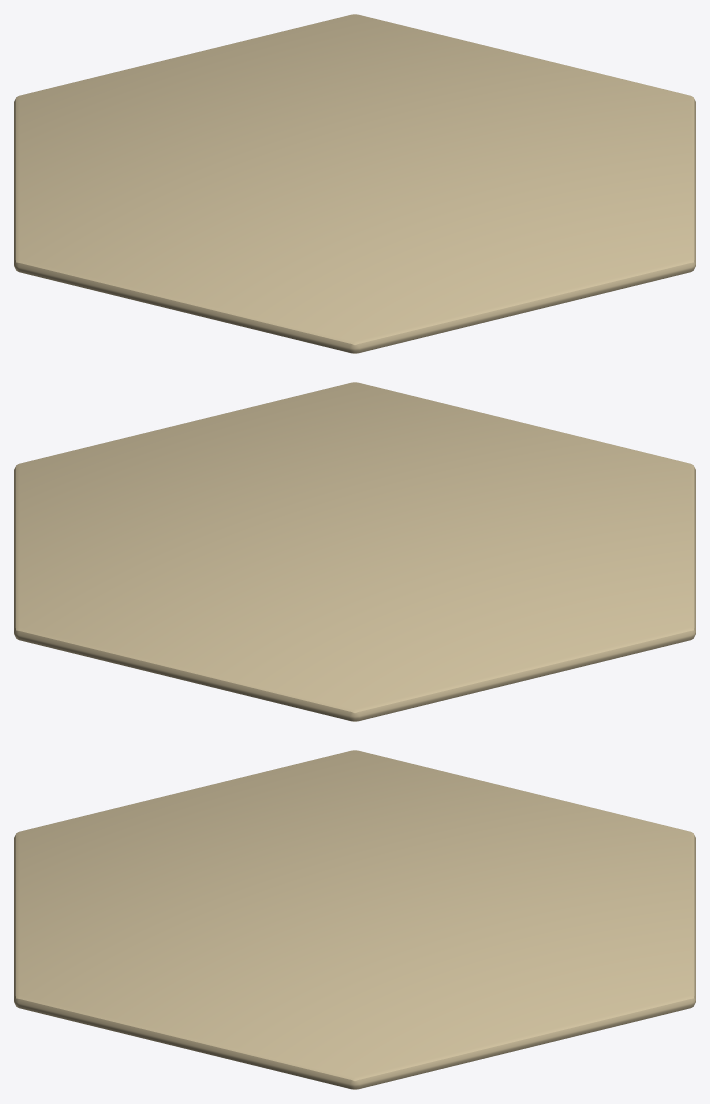
The model's file is HexTile.fbx.
3 renders of one model, top to bottom at view 1: azimuth 30°, elevation 25°; view 2: azimuth 150°, elevation 25°; view 3: azimuth 270°, elevation 25°, orthographic.
Visible parts, largest first — view 1: HexTile; view 2: HexTile; view 3: HexTile.
Boxes of the visible parts, x1,y1,x2,y2 form: HexTile: (14,14,695,353); HexTile: (14,382,695,721); HexTile: (14,750,695,1089).
Bounding box in the file's own units: 3.45 × 0.06 × 3.
